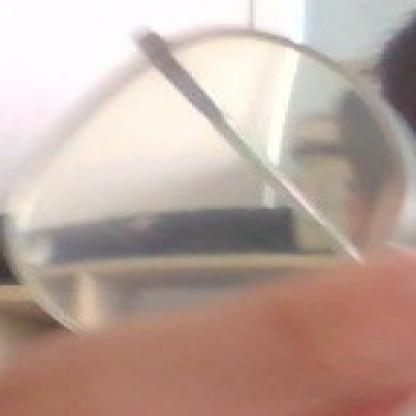not trash: (3, 22, 416, 332)
